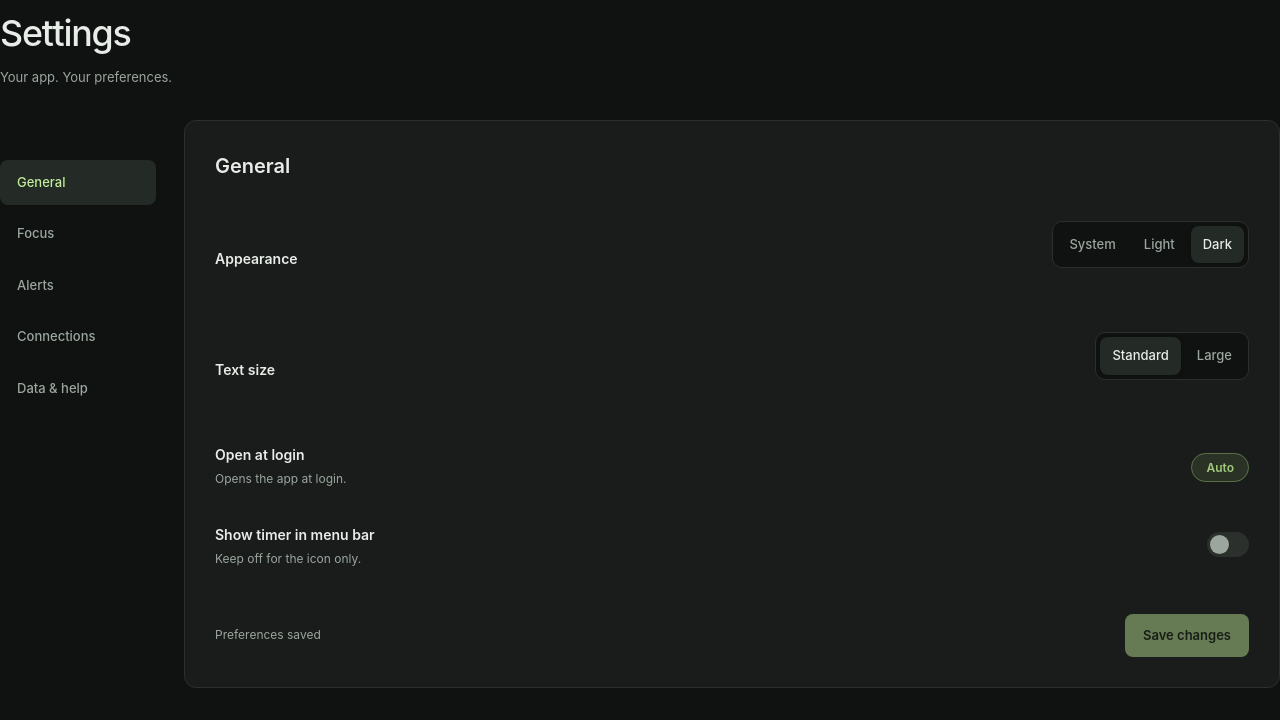
saves real preferences with button choices and no dropdowns
This screenshot has width=1280, height=720.
Click the button "Light".
click(1159, 244)  # box [1132,226,1187,263]
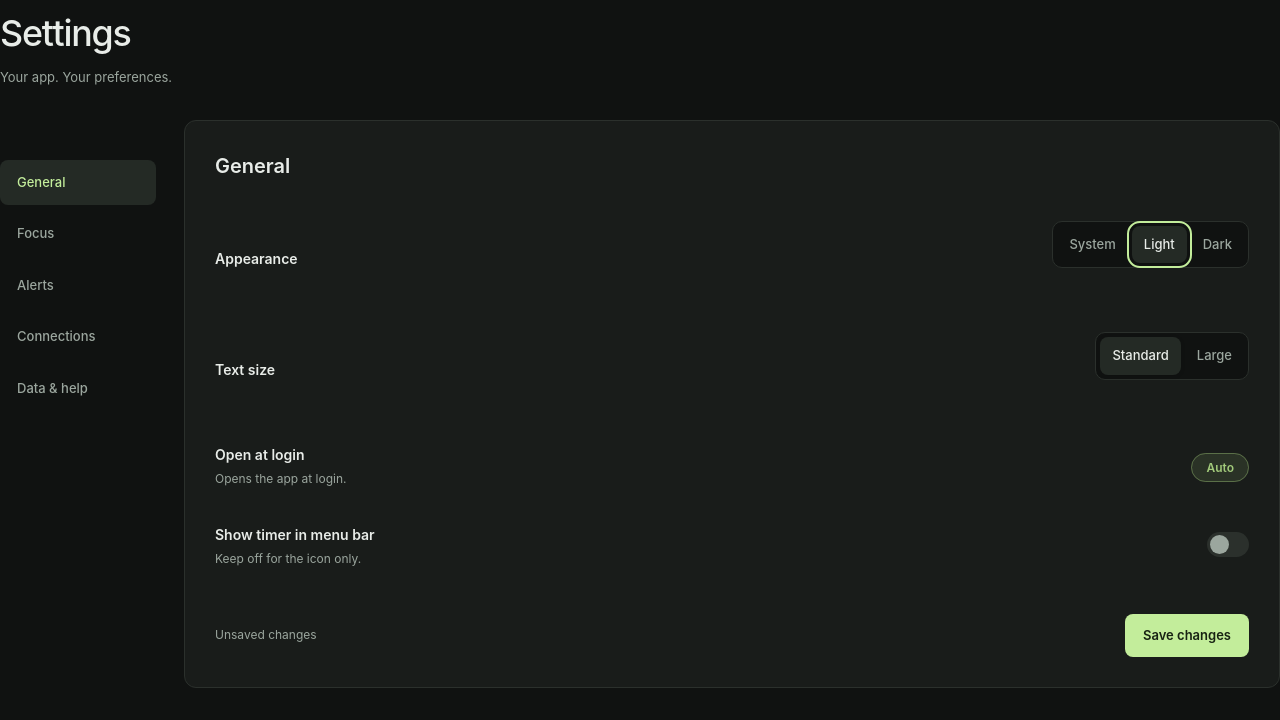
Click the switch named "Show timer in menu bar".
click(1228, 544)  # box [1207,532,1249,557]
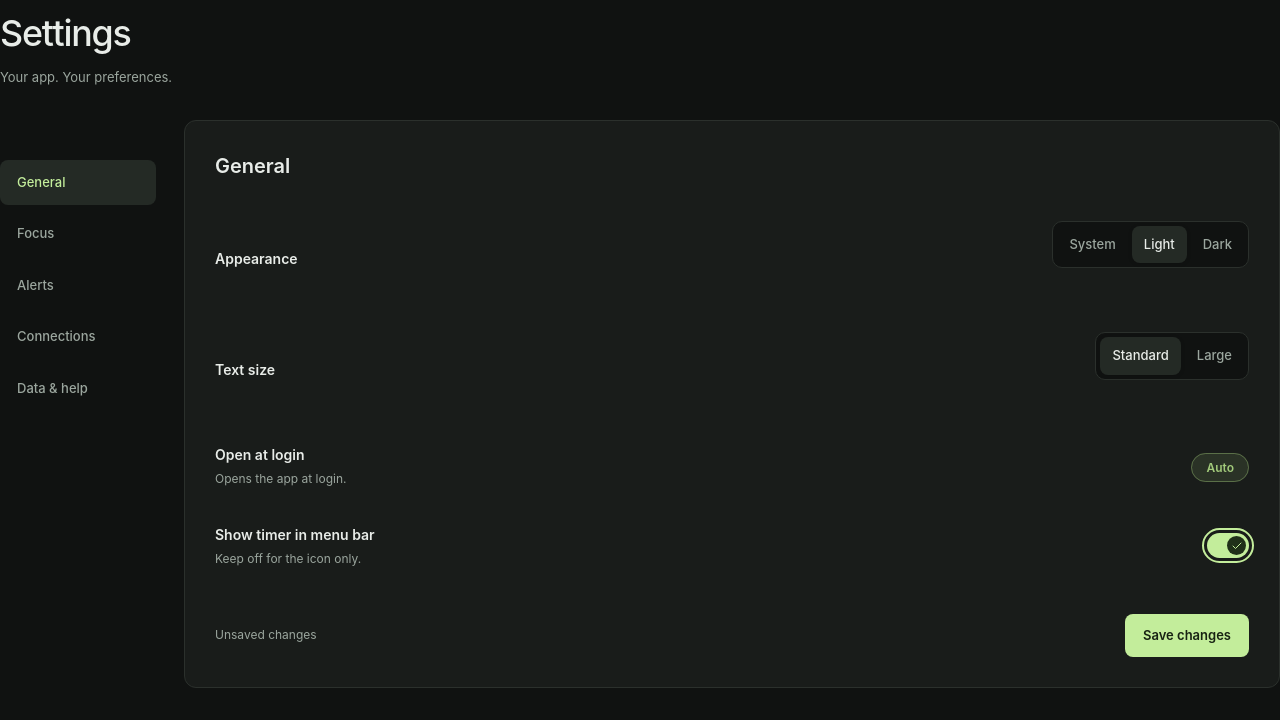
Click the button "Save changes".
click(1187, 635)  # box [1125,614,1249,657]
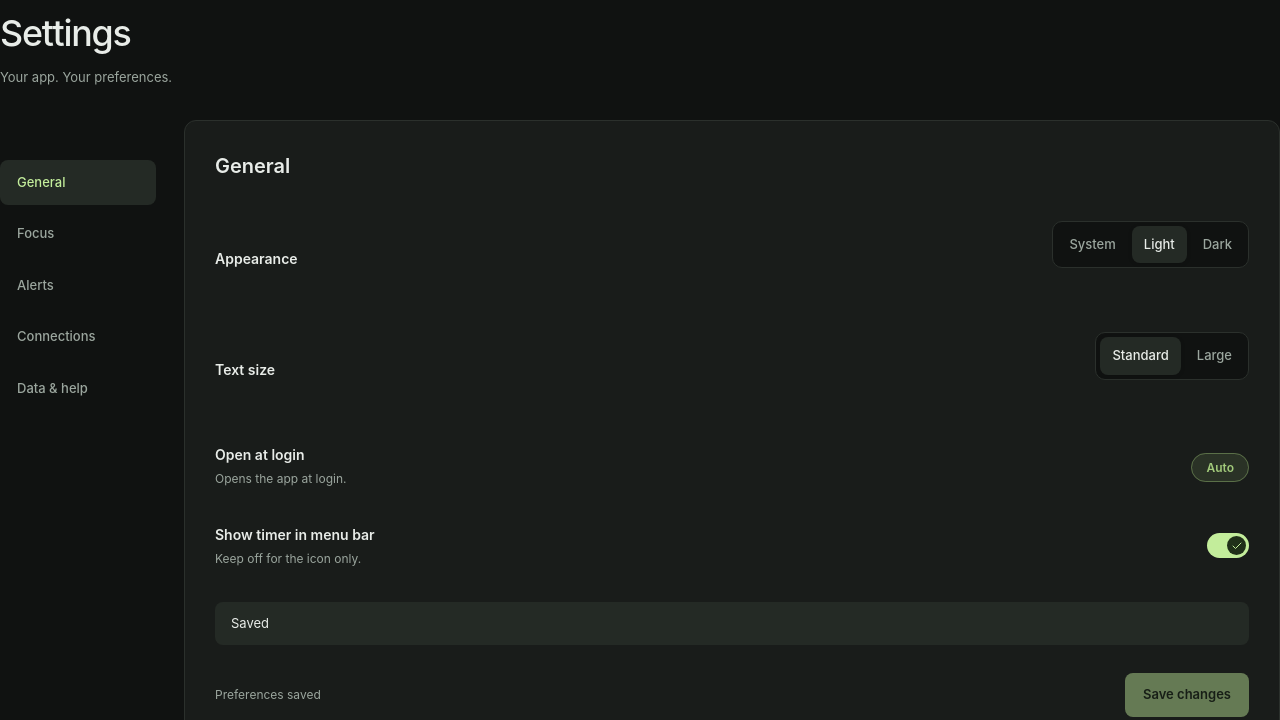
Result: the text "Saved" is shown at [215,602,1249,645]
